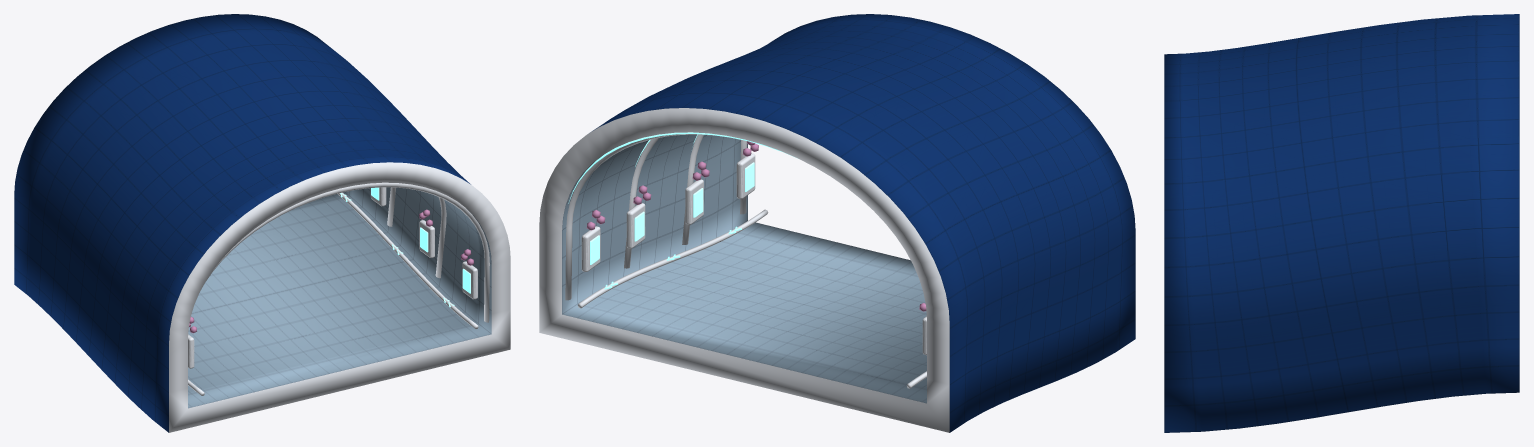
The model's file is grade_up.glb.
The picture shows the model from 3 angles, left to right: view 1: azimuth 30°, elevation 25°; view 2: azimuth 150°, elevation 25°; view 3: azimuth 270°, elevation 25°; orthographic projection. The views are drawn at different scales.
Visible parts, largest first — view 1: TunnelGeometry; view 2: TunnelGeometry; view 3: TunnelGeometry.
Boxes of the visible parts, <box> form: TunnelGeometry: <box>14,14,510,432</box>; TunnelGeometry: <box>539,14,1135,432</box>; TunnelGeometry: <box>1164,14,1519,432</box>.
Bounding box in the file's own units: 15.3 × 11.02 × 12.
Materials: 5 (2 with a texture image).
